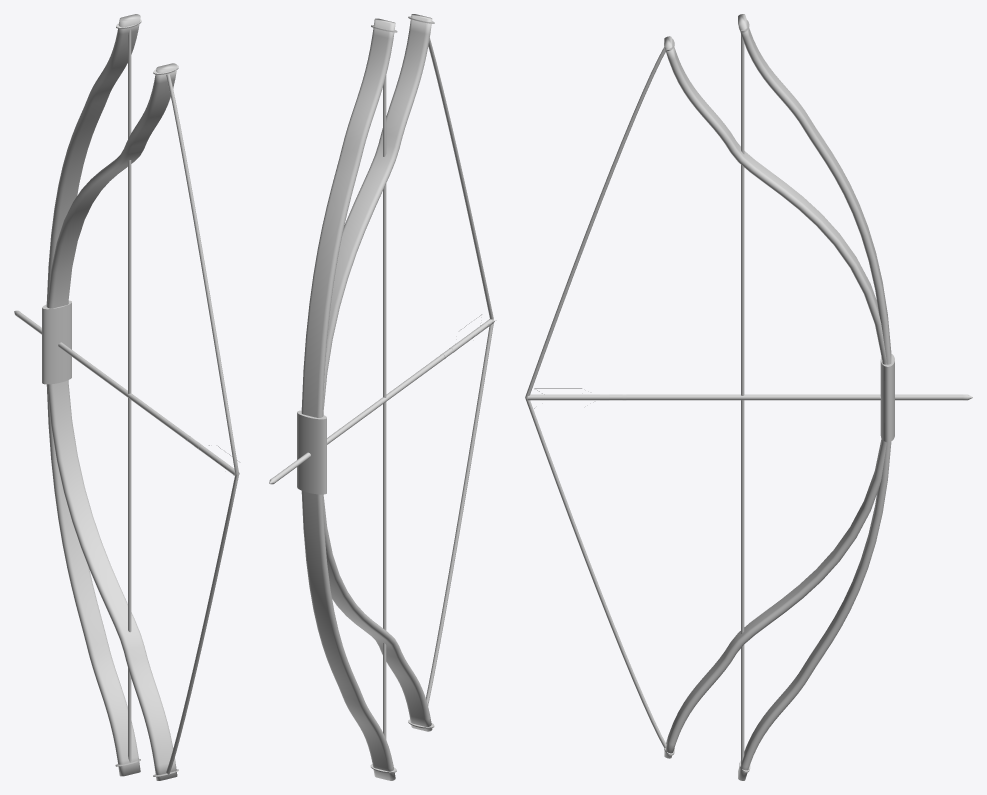
Rendered from Arrow.fbx.
The picture shows the model from 3 angles, left to right: view 1: azimuth 30°, elevation 25°; view 2: azimuth 150°, elevation 25°; view 3: azimuth 270°, elevation 25°; orthographic projection.
Parts seen in each view (by area): view 1: ベジエカーブ.001, ベジエカーブ, ベジエカーブ.002, 円柱.001, 円柱, 円柱.004; view 2: ベジエカーブ, ベジエカーブ.001, ベジエカーブ.002, 円柱.001, 円柱, 円柱.004; view 3: ベジエカーブ.001, ベジエカーブ, ベジエカーブ.002, 円柱.004, 円柱.001, 円柱.
Boxes of the visible parts, x1,y1,x2,y2 form: ベジエカーブ.001: (47,63,177,780); ベジエカーブ: (46,14,140,776); ベジエカーブ.002: (166,74,239,774); 円柱.001: (128,29,131,762); 円柱: (42,300,71,384); 円柱.004: (17,312,234,474); ベジエカーブ: (301,18,395,780); ベジエカーブ.001: (322,14,432,731); ベジエカーブ.002: (426,38,493,705); 円柱.001: (383,76,386,739); 円柱: (297,410,326,494); 円柱.004: (274,319,492,481); ベジエカーブ.001: (664,36,886,758); ベジエカーブ: (738,14,891,780); ベジエカーブ.002: (525,47,666,747); 円柱.004: (531,394,962,400); 円柱.001: (741,34,744,763); 円柱: (880,354,894,442).
Size of the model in its own units: 0.082 by 2.04 by 1.09.
